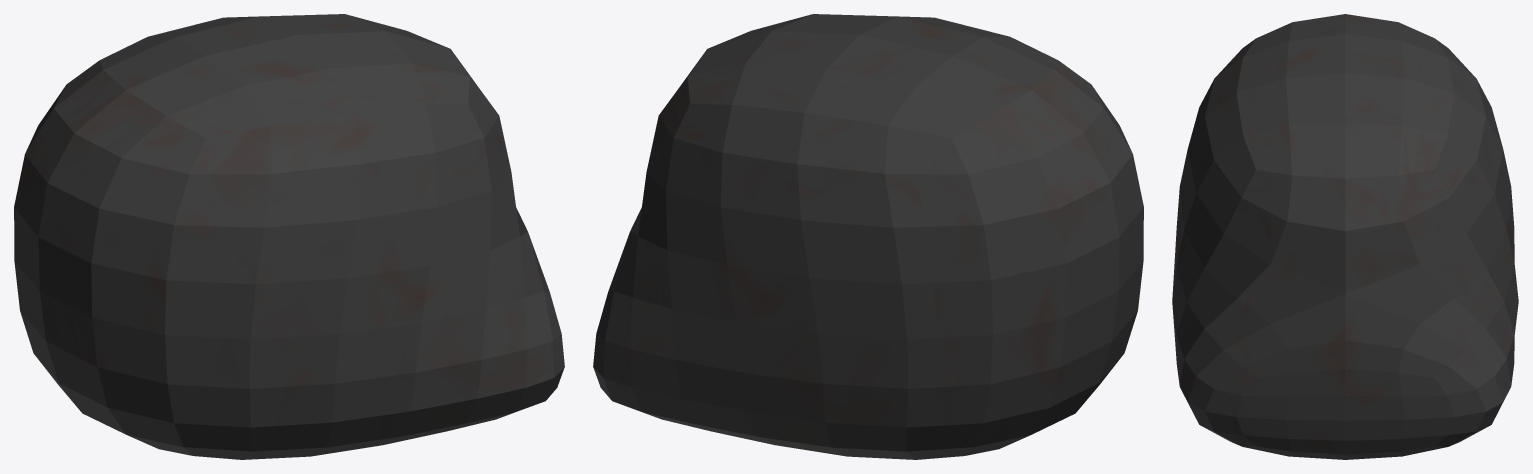
File: rock3.fbx
The picture shows the model from 3 angles, left to right: view 1: azimuth 30°, elevation 25°; view 2: azimuth 150°, elevation 25°; view 3: azimuth 270°, elevation 25°; orthographic projection. The views are drawn at different scales.
Visible parts, largest first — view 1: Cube; view 2: Cube; view 3: Cube.
Part boxes in pixels (bbox=[...]): Cube: bbox=[14, 14, 564, 459]; Cube: bbox=[593, 14, 1143, 459]; Cube: bbox=[1172, 14, 1518, 459].
Bounding box in the file's own units: 252 × 198 × 194.
